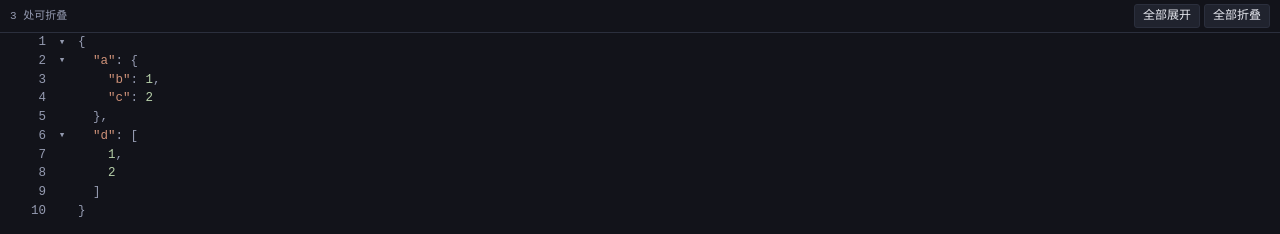
Test: JsonCode 折叠 › 折叠一行后其内容行消失、显示摘要，行号仍为原文行号
This screenshot has width=1280, height=234.
Click the button named "折叠 第 2 行" at [62, 61], box [56,52,68,71]
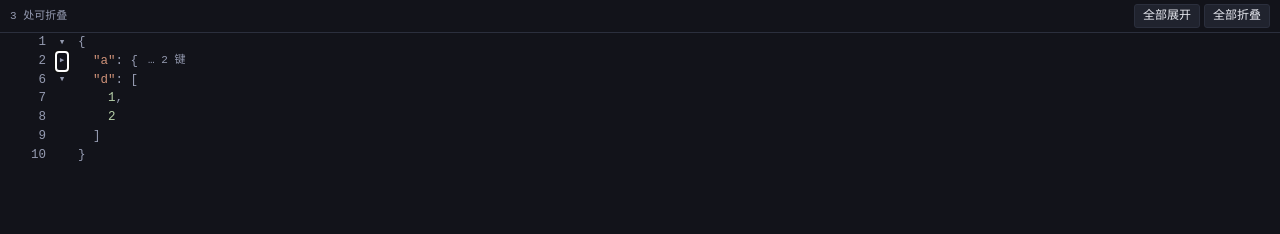
Result: the text "… 2 键" is shown at [148,52,186,71]
Result: the button named "展开 第 2 行" is collapsed at [56,52,68,71]
